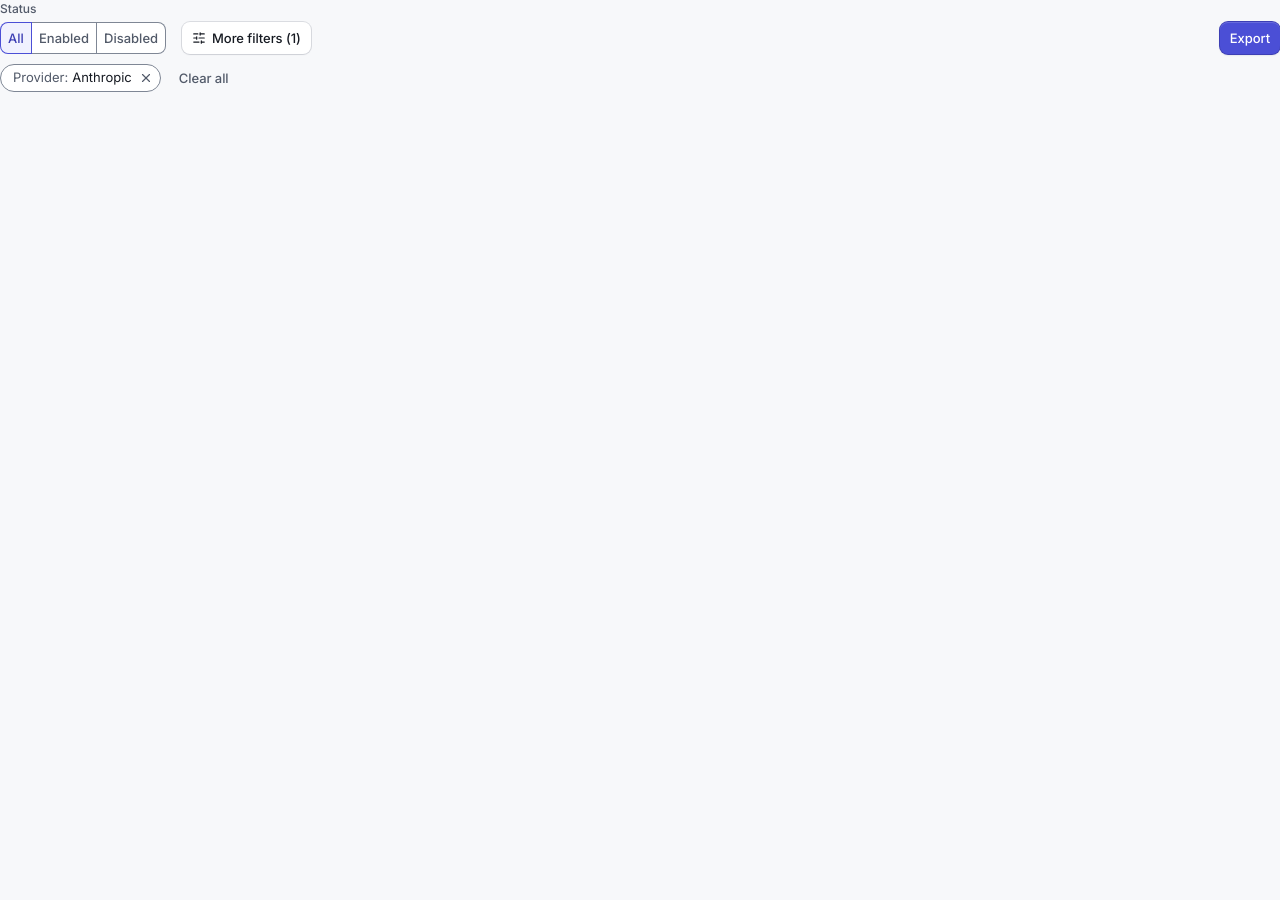
Test case: FilterToolbar › moves the least-used facets behind 'More filters (n)' and keeps their chips under the row
The width and height of the screenshot is (1280, 900).
Expected: the button with aria-label "Remove filter Provider: Anthropic" is shown, top-left (0, 64), bottom-right (161, 92)
Click the button with aria-label "More filters, 1 active".
click(246, 38)  # box top-left (182, 22), bottom-right (311, 54)
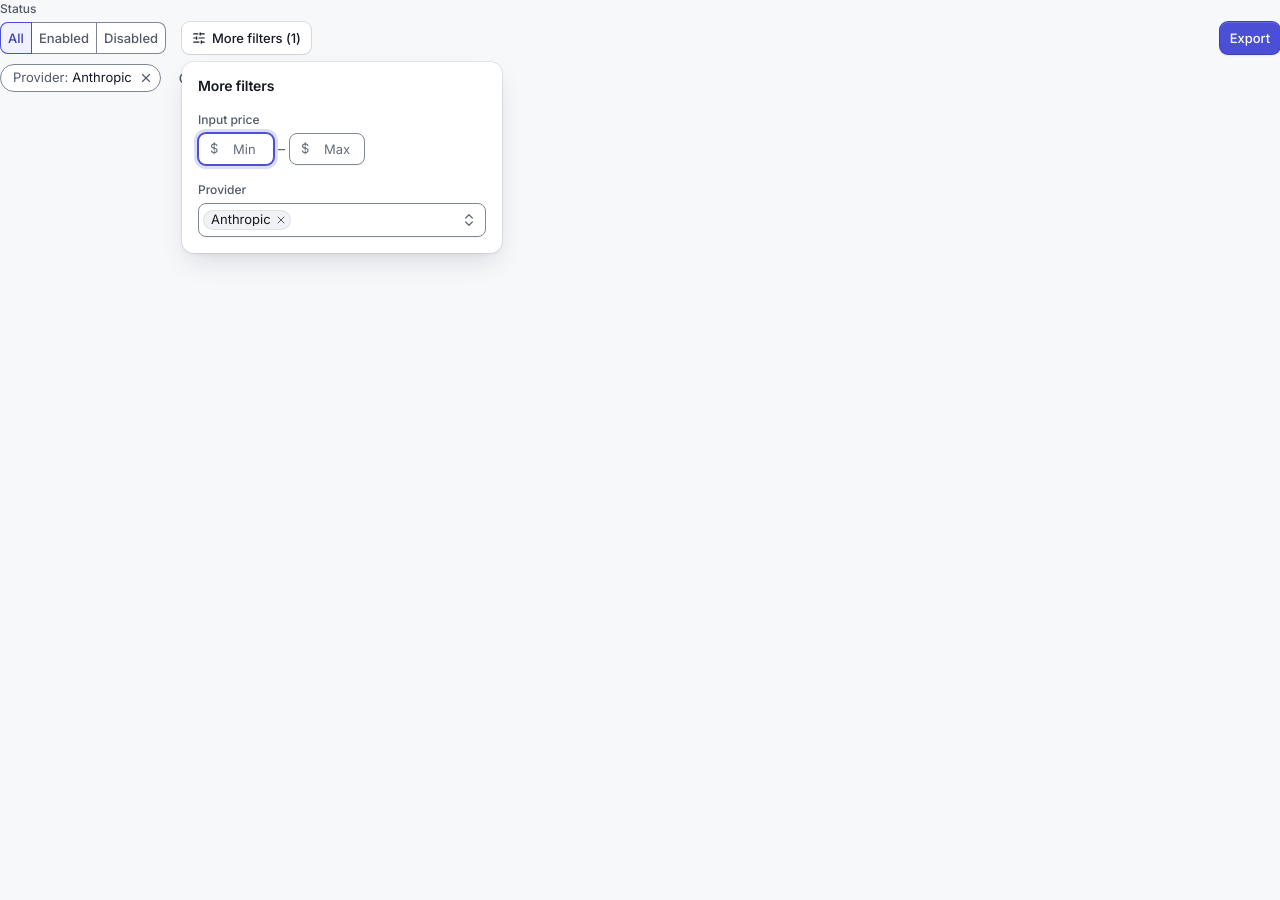
Result: the element named "More filters" is shown at top-left (198, 181), bottom-right (486, 237)
Type "5" into the field named "Input price, Max".
click(327, 149); type("5")  # box top-left (289, 133), bottom-right (365, 165)
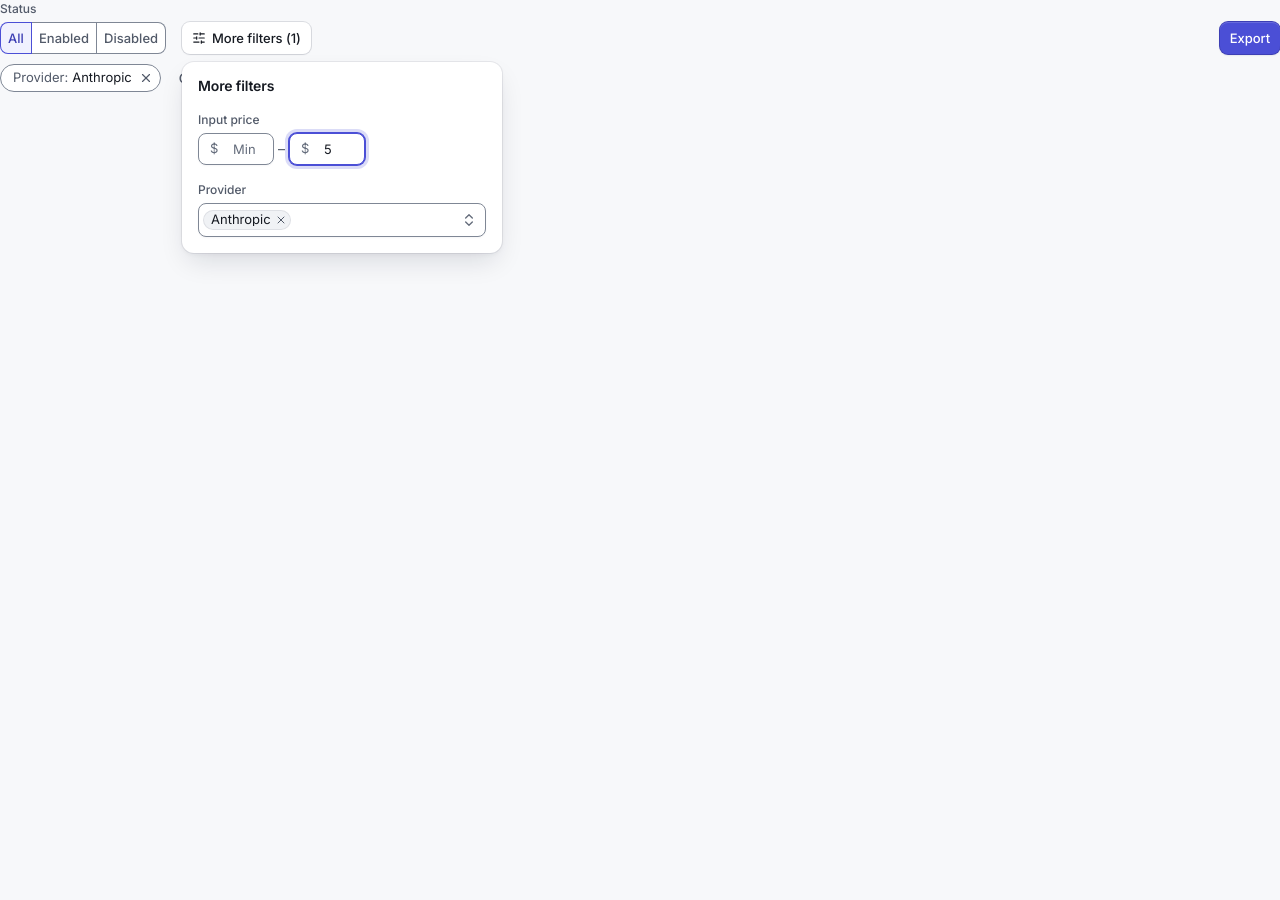
Leave the field named "Input price, Max", box top-left (289, 133), bottom-right (365, 165)
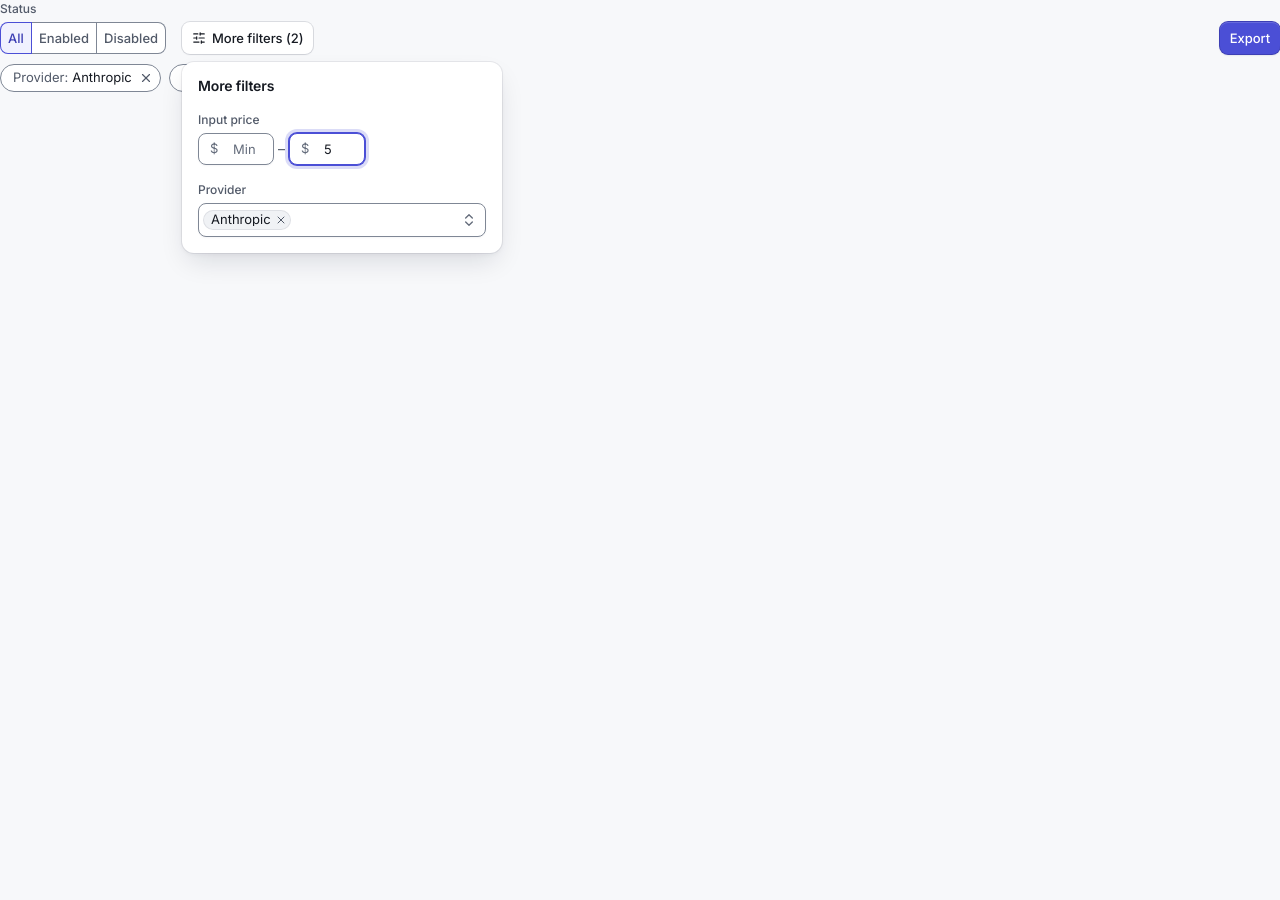
Result: the button with aria-label "More filters, 2 active" is shown at top-left (182, 22), bottom-right (313, 54)
